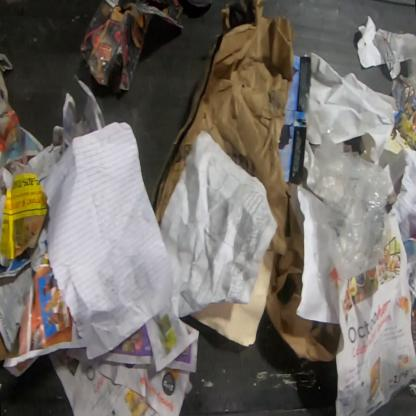cardboard: (149, 0, 341, 365), (78, 0, 185, 97), (0, 53, 14, 117)
soft_plastic: (306, 127, 390, 283)
